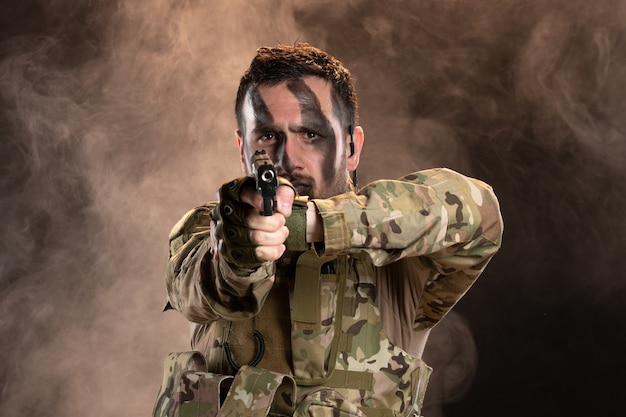gun: (248, 147, 279, 217)
